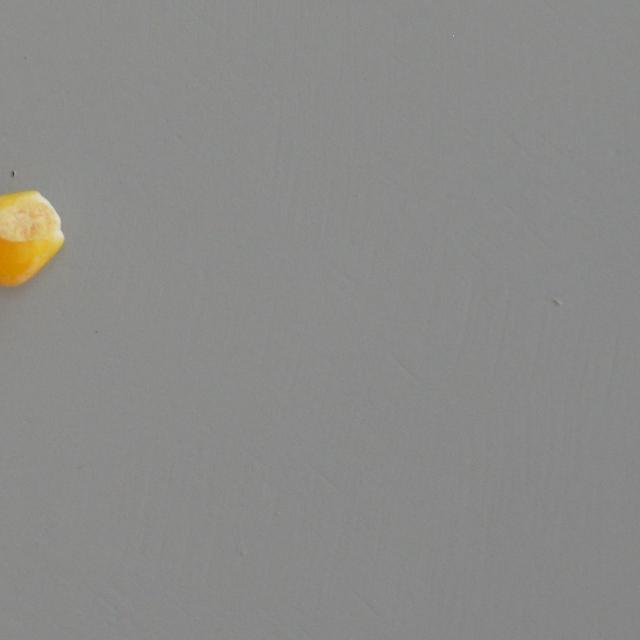pelicula: (0, 190, 64, 286)
